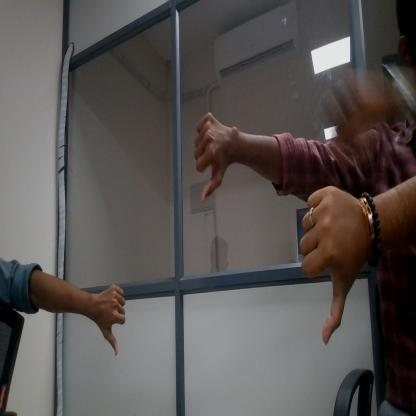Thumbs Down: (298, 190, 359, 350), (188, 106, 228, 200), (100, 275, 130, 361)
